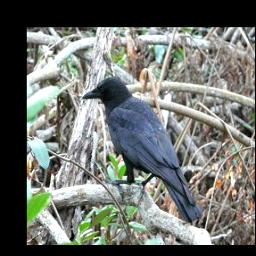Crow: (80, 76, 203, 227)
